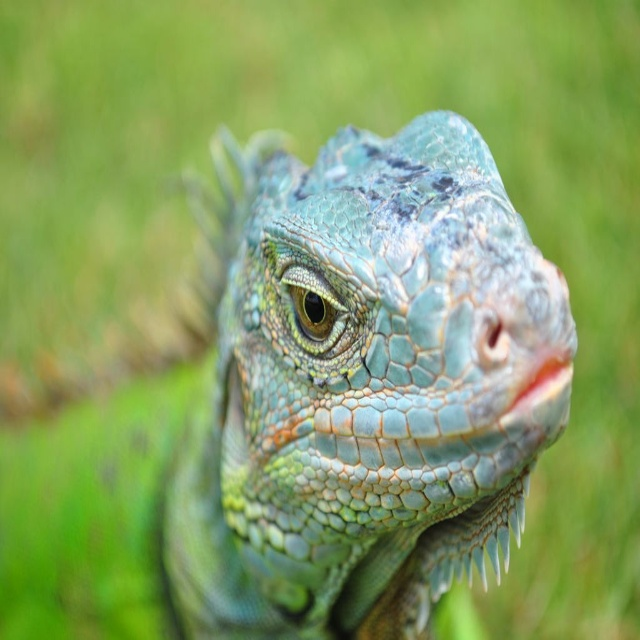Lizard: (160, 108, 576, 639)
